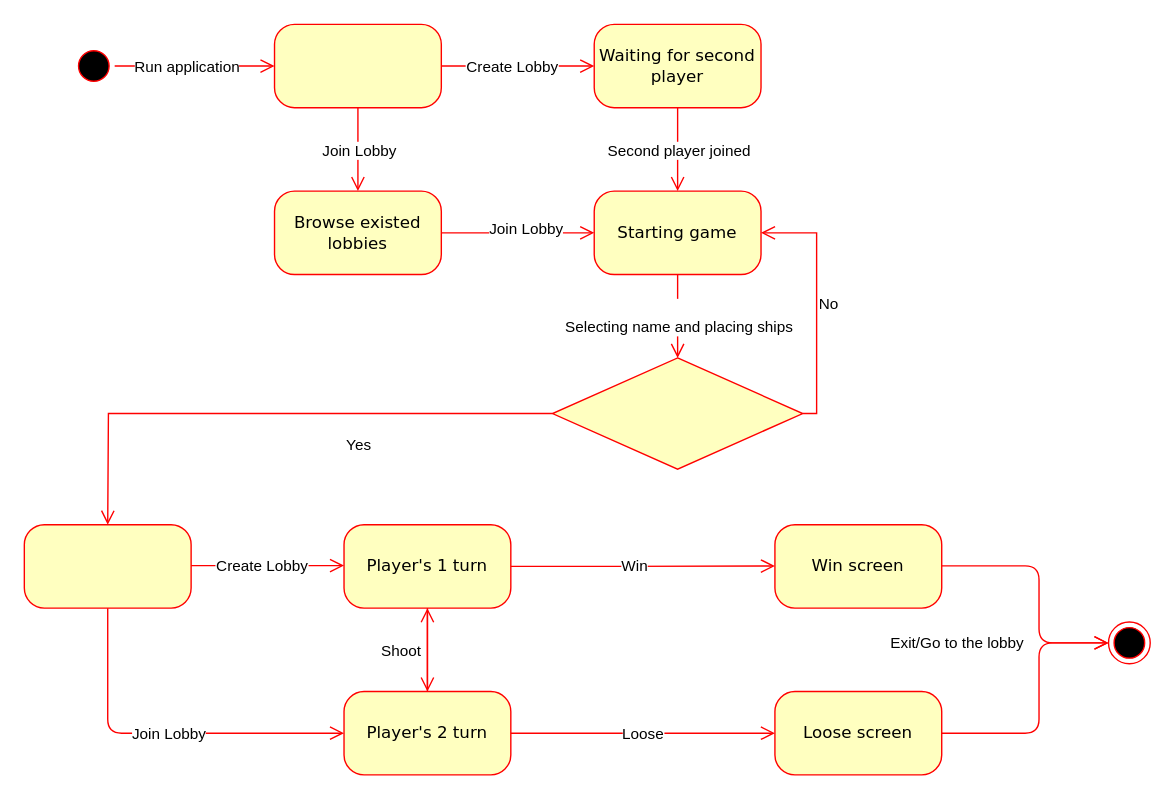
The diagram is 1175 pixels wide and 799 high, and some of its shapes have lost their labels. Here are the shapes that lost their labels. From the top down, the centre of each, then its label:
point 357,65: Main menu
point 677,413: All ships are placed and second player ready?
point 107,565: Game start
